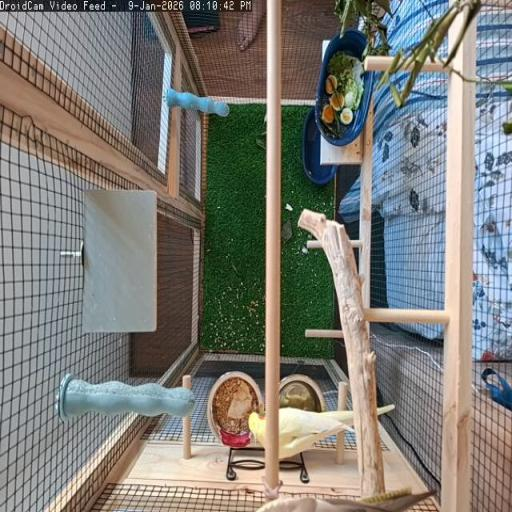bebedero: (280, 374, 326, 410)
comedero: (207, 371, 262, 446)
ninfa: (278, 407, 353, 459), (260, 492, 432, 511), (249, 413, 274, 448)
